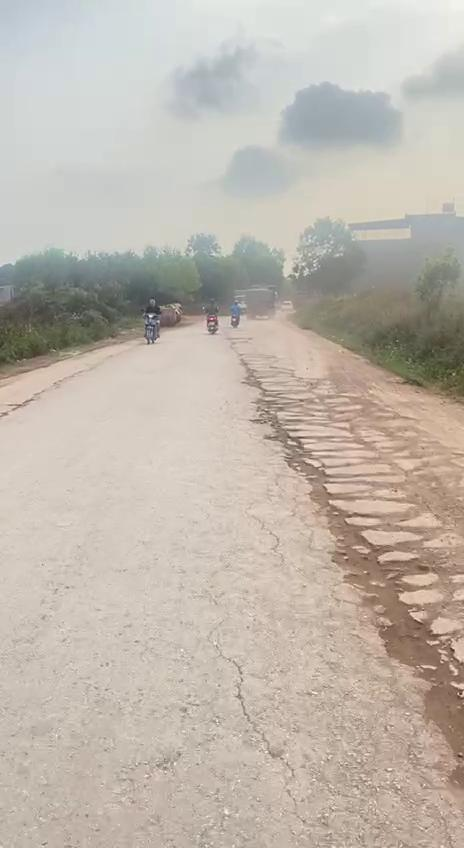pothole: (339, 546, 464, 758), (290, 453, 370, 560), (248, 392, 313, 462), (238, 360, 271, 397)
